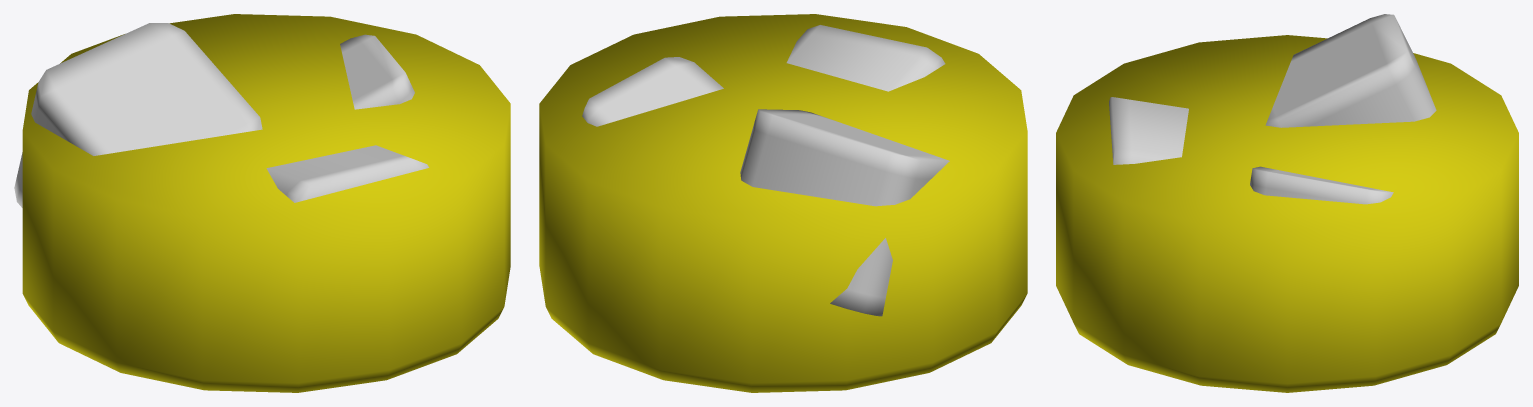
Rendered from BHP_MOD_DRI_Whiskey.fbx.
3 views of the same model, side by side, from view 1: azimuth 30°, elevation 25°; view 2: azimuth 150°, elevation 25°; view 3: azimuth 270°, elevation 25° (orthographic). The views are drawn at different scales.
Parts seen in each view (by area): view 1: BHP_MOD_Whiskey; view 2: BHP_MOD_Whiskey; view 3: BHP_MOD_Whiskey.
Boxes of the visible parts, box(x1,y1,x2,y2) form: BHP_MOD_Whiskey: box(14, 14, 510, 392); BHP_MOD_Whiskey: box(539, 14, 1027, 392); BHP_MOD_Whiskey: box(1056, 14, 1518, 392).
Size of the model in its own units: 0.1228 by 0.0649 by 0.1228.
